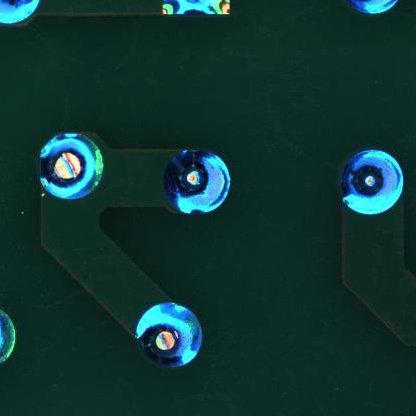spot: (165, 144, 231, 219), (335, 147, 404, 217), (38, 131, 107, 200), (136, 302, 203, 368)
